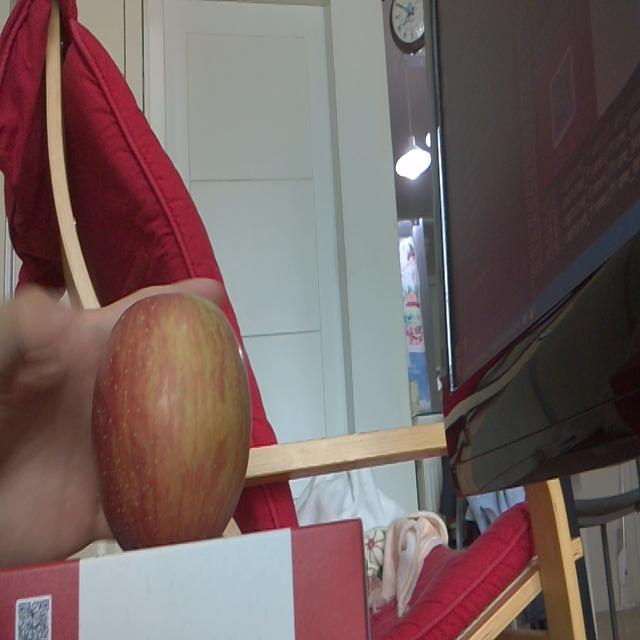apple: (91, 294, 253, 553)
